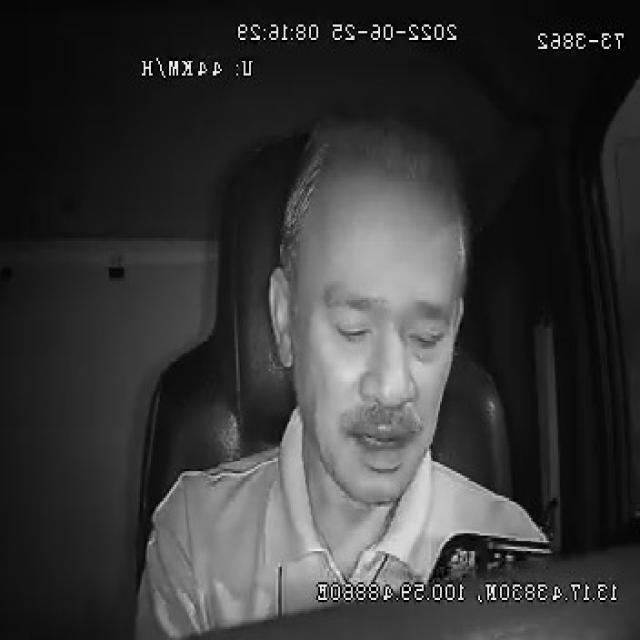phone: (426, 528, 556, 580)
